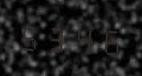five: (18, 17, 43, 54)
four: (70, 20, 95, 57)
six: (96, 21, 121, 58)
three: (44, 18, 69, 55)
